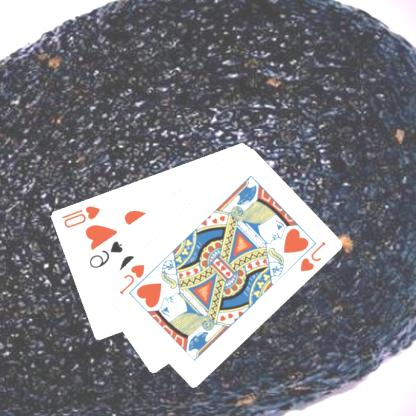10H: (60, 203, 103, 230)
9S: (87, 238, 126, 270)
JH: (299, 238, 329, 273), (118, 261, 147, 297)
